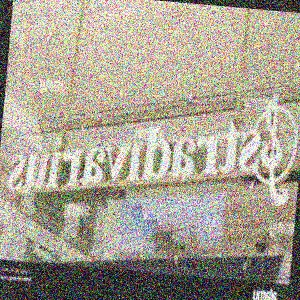stradivarius: (296, 50, 300, 128)
